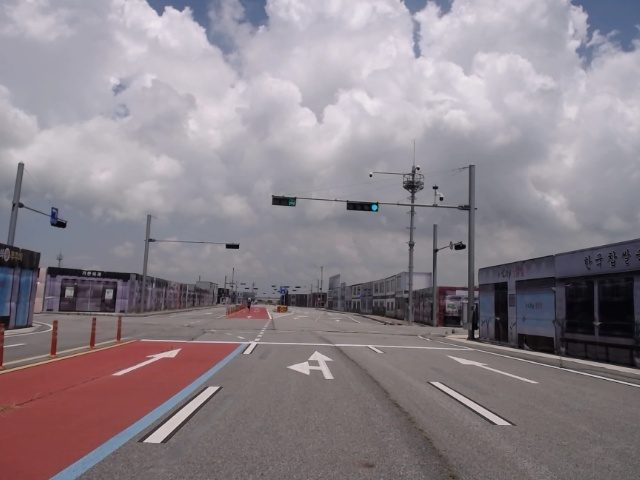straight_green_4: (347, 201, 378, 213)
